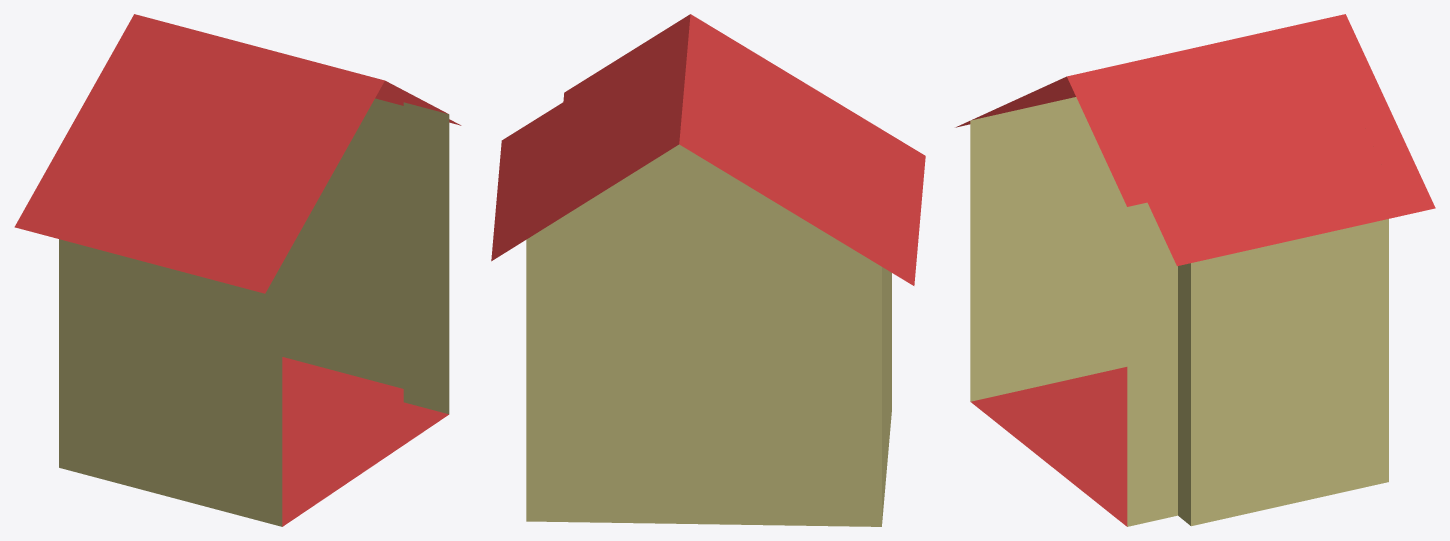
3 renders of one model, left to right at view 1: azimuth 30°, elevation 25°; view 2: azimuth 150°, elevation 25°; view 3: azimuth 270°, elevation 25°, orthographic. The views are drawn at different scales.
Bounding box in the file's own units: 11.29 × 10.46 × 9.65.
